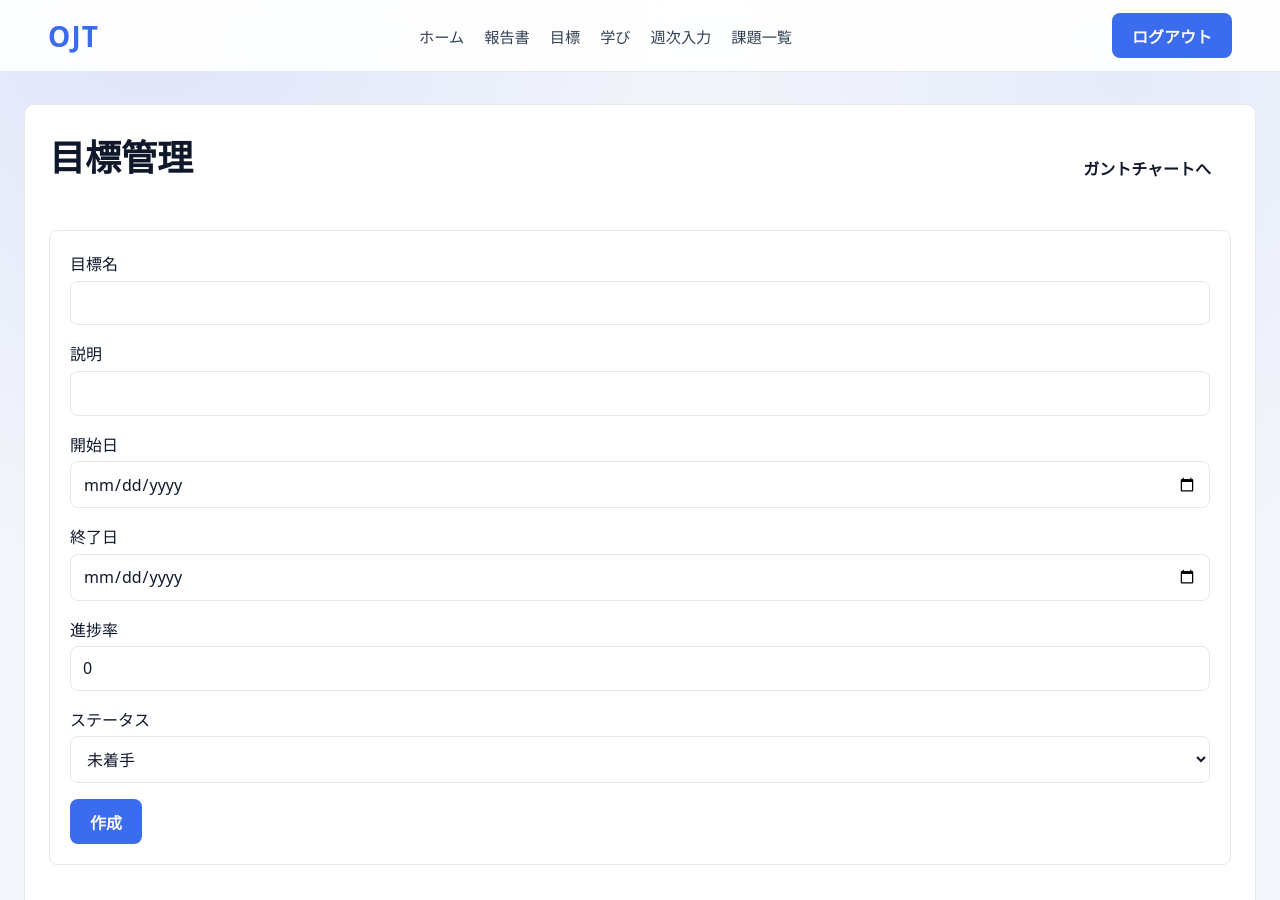
Test: 目標 UI › U-G34 管理画面の不正期間入力 › 終了日が開始日より前だとエラーが表示される
This screenshot has width=1280, height=900.
Type "不正期間目標" into the field labelled "目標名". click: {"x": 640, "y": 303}
box: left=70, top=281, right=1210, bottom=325
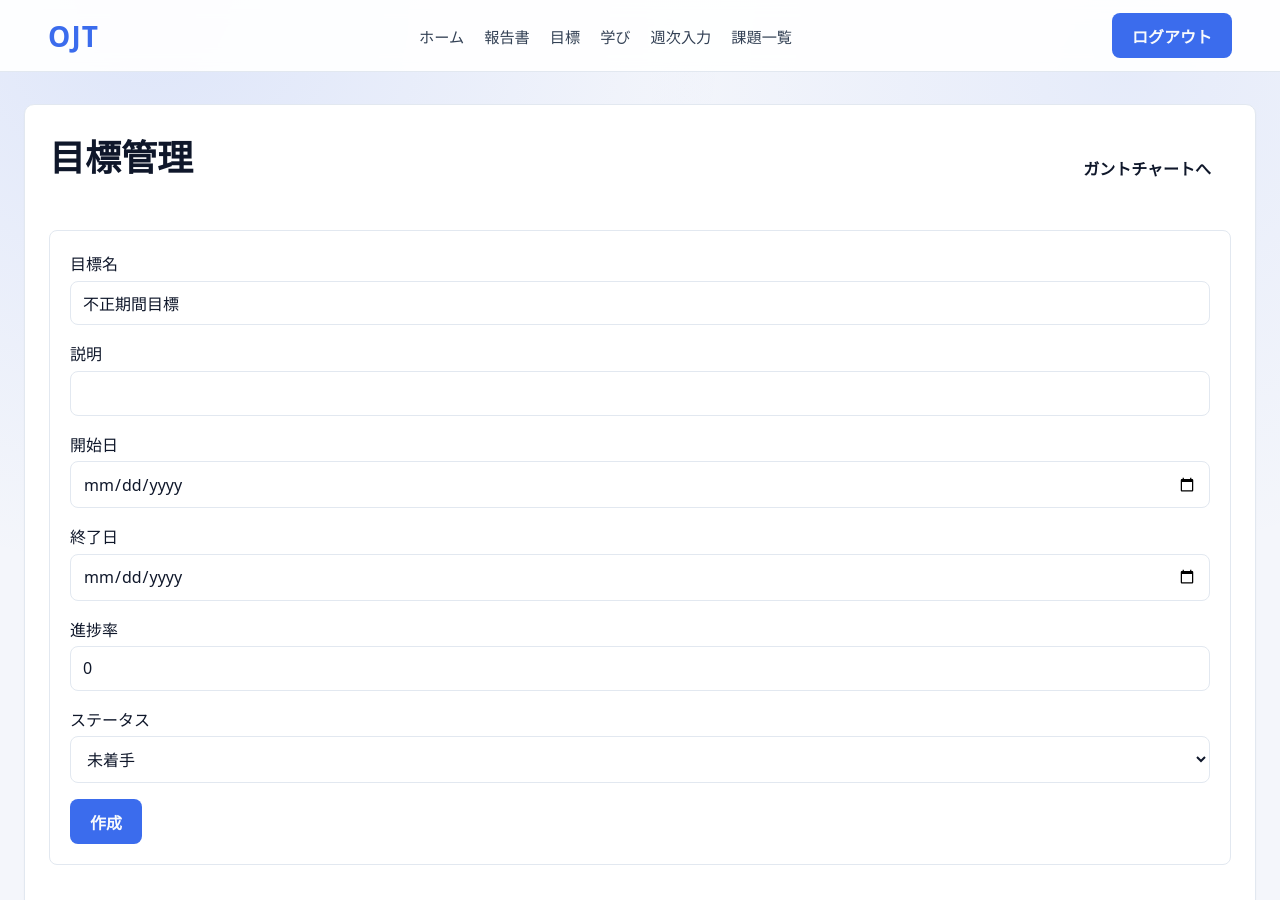
Type "2026-08-10" into the date field labelled "開始日". click: {"x": 640, "y": 485}
box: left=70, top=461, right=1210, bottom=508
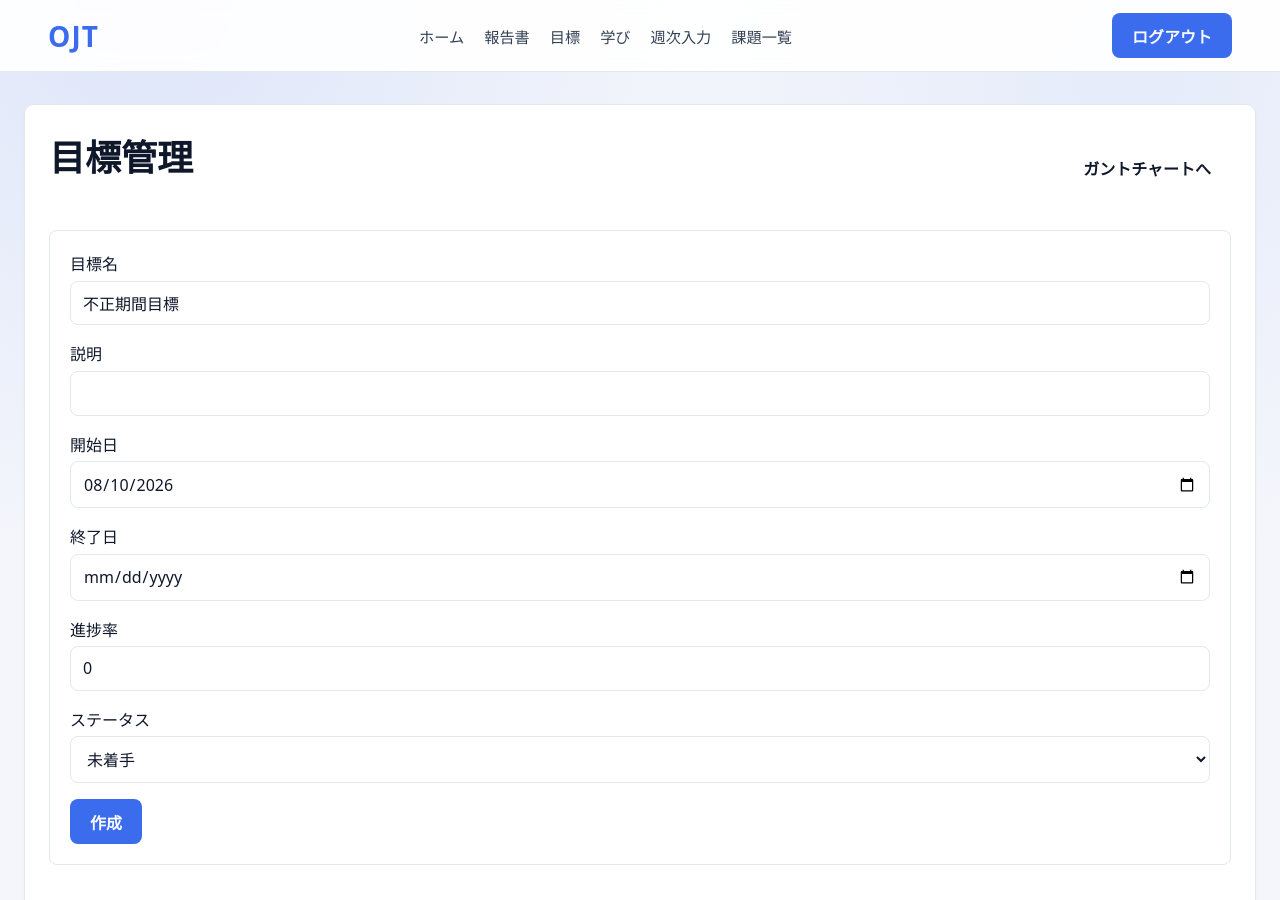
Type "2026-08-01" into the date field labelled "終了日". click: {"x": 640, "y": 577}
box: left=70, top=554, right=1210, bottom=600
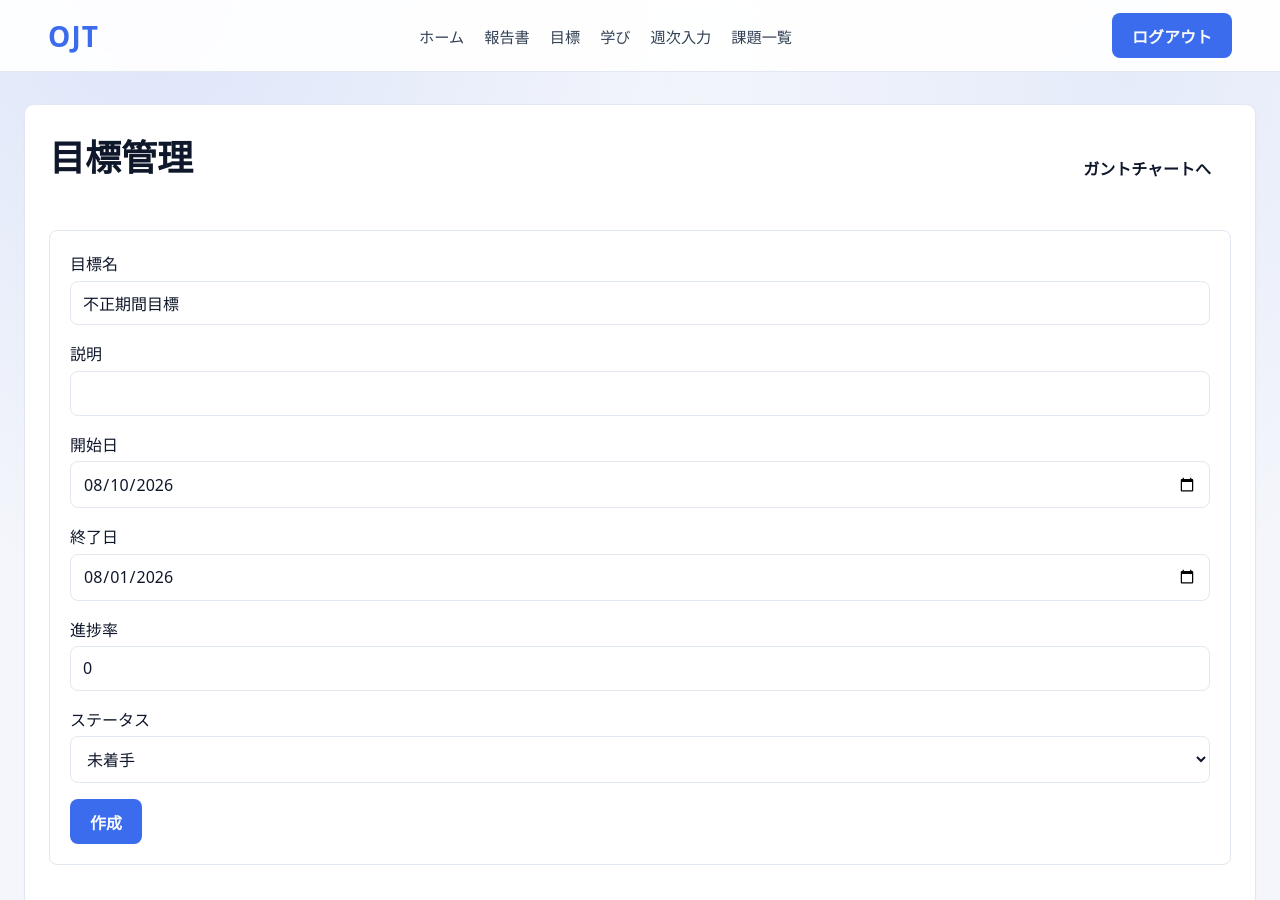
Submit the form named "目標作成"
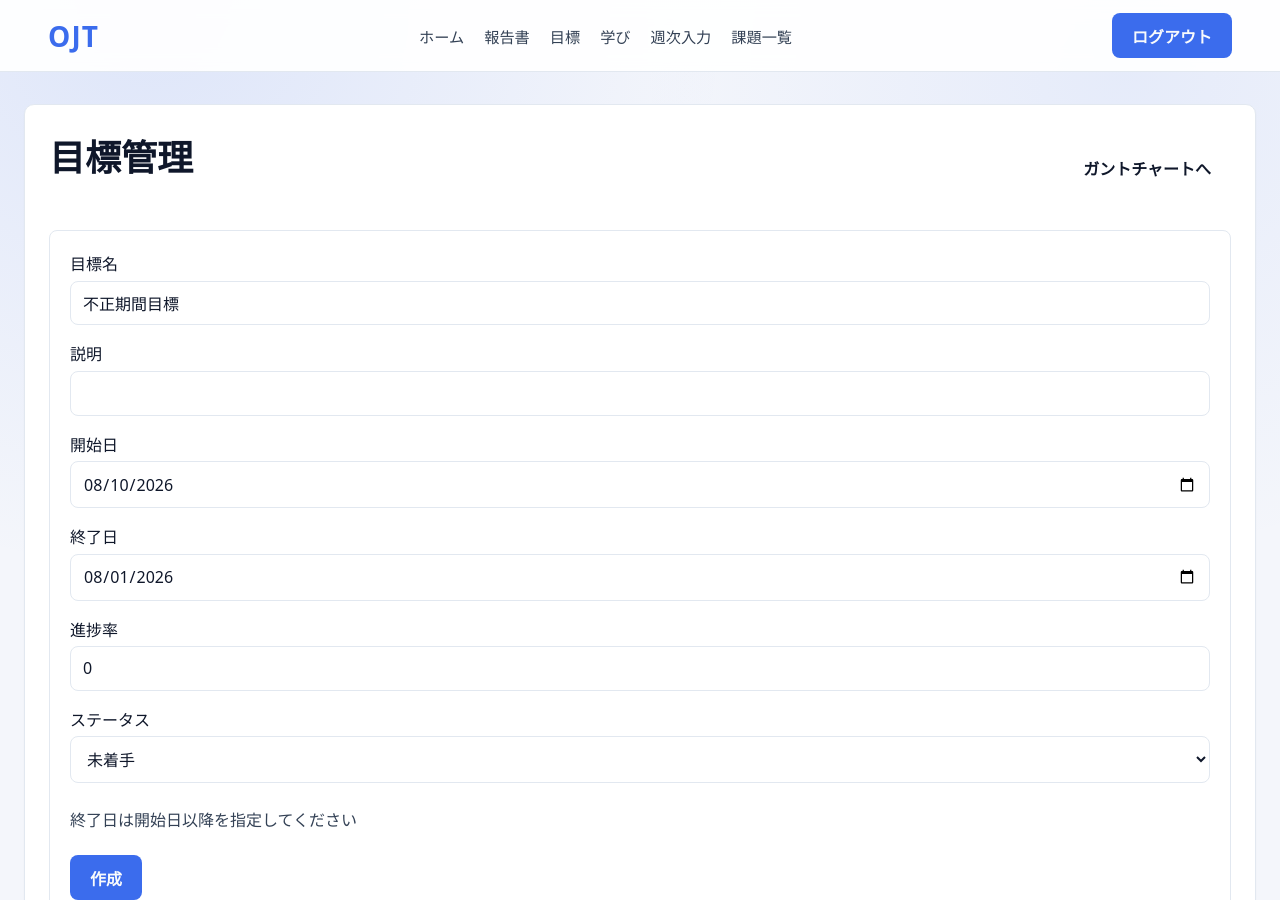
Expected: the message reads "終了日は開始日以降を指定してください", left=70, top=809, right=357, bottom=831
